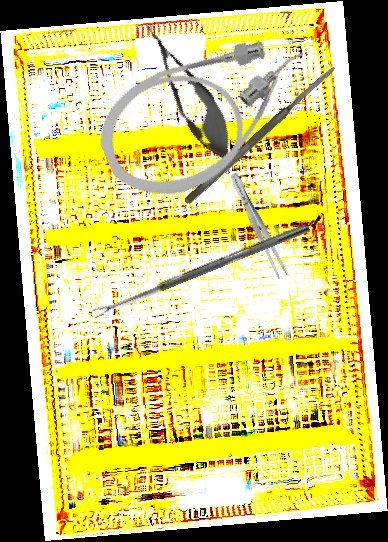Cannula: (83, 15, 335, 216)
Dressing Forceps: (226, 170, 291, 281)
Micro Scissor: (130, 12, 246, 170)
Spatula Surgical: (182, 62, 340, 207)
Surgical Spoon: (91, 221, 311, 319)
